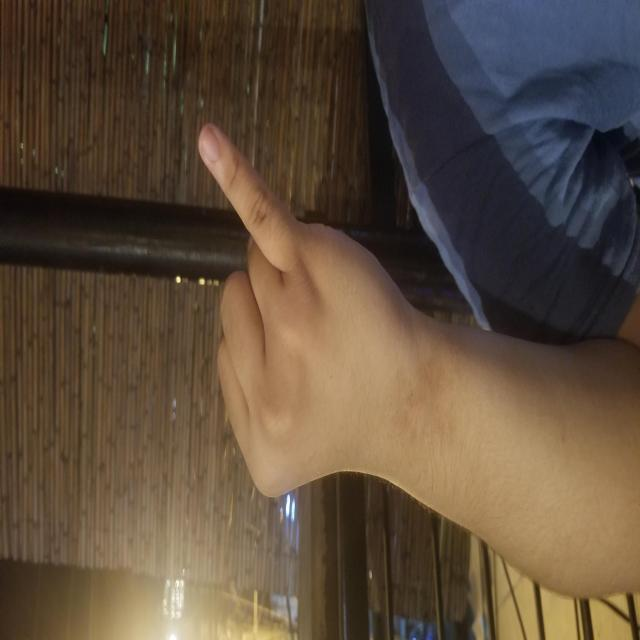J: (155, 74, 474, 586)
